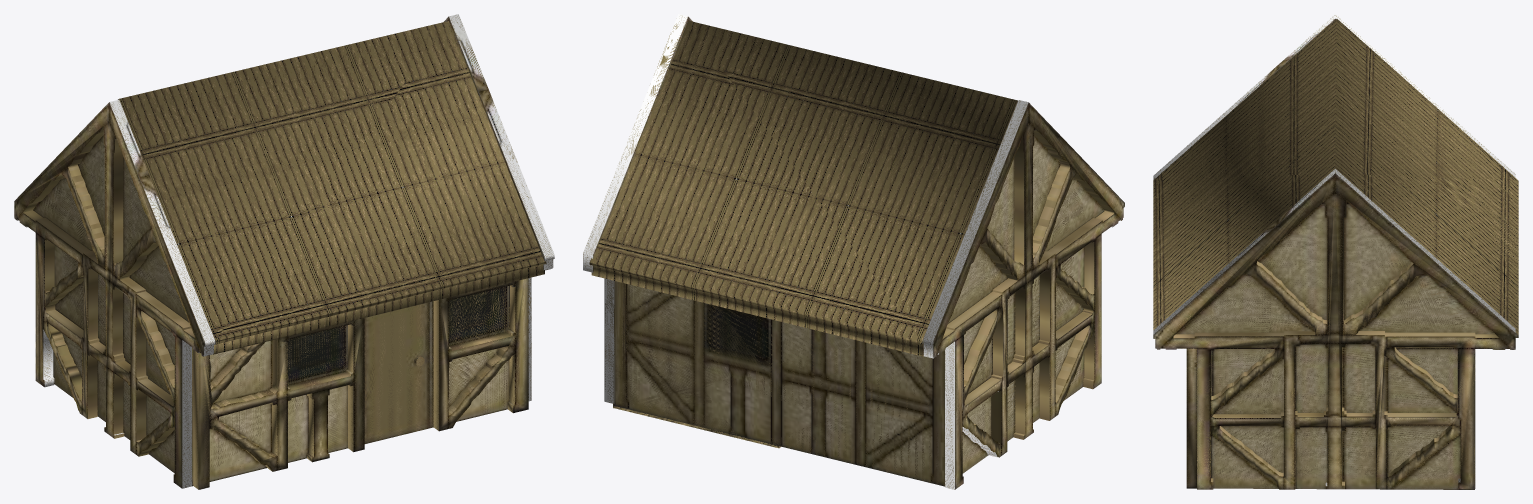
Rendered from house1.fbx.
3 views of the same model, side by side, from view 1: azimuth 30°, elevation 25°; view 2: azimuth 150°, elevation 25°; view 3: azimuth 270°, elevation 25° (orthographic). The views are drawn at different scales.
Visible parts, largest first — view 1: casa1, maderas_lateraj1, G_2_1, maderas1, G_3_2, maderas_lateraj2; view 2: casa1, G_4_1, maderas_lateraj1, G_3_2, maderas_lateraj2; view 3: casa1, G_3_1, maderas_lateraj2, maderas_lateraj1, maderas1.
Boxes of the visible parts, <box> form: casa1: <box>118,21,546,354</box>; maderas_lateraj1: <box>14,99,215,488</box>; G_2_1: <box>192,285,509,486</box>; maderas1: <box>193,278,528,489</box>; G_3_2: <box>33,99,188,472</box>; maderas_lateraj2: <box>444,14,554,401</box>; casa1: <box>589,20,1017,448</box>; G_4_1: <box>613,281,944,486</box>; maderas_lateraj1: <box>923,100,1124,489</box>; G_3_2: <box>922,101,1104,473</box>; maderas_lateraj2: <box>583,14,692,403</box>; casa1: <box>1153,19,1518,334</box>; G_3_1: <box>1156,200,1518,489</box>; maderas_lateraj2: <box>1153,169,1515,489</box>; maderas_lateraj1: <box>1153,14,1515,179</box>; maderas1: <box>1186,348,1196,488</box>.
Size of the model in its own units: 4.74 by 4.38 by 4.53.
